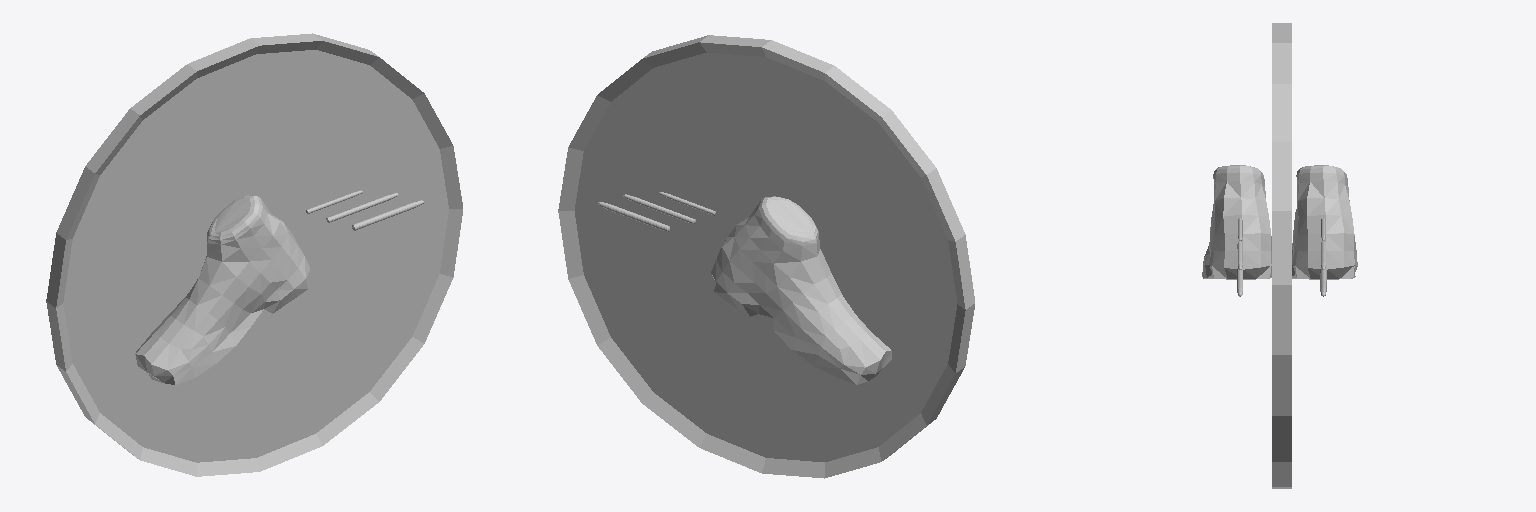
Rendered from Perk_Movement.obj.
3 views of the same model, side by side, from view 1: azimuth 30°, elevation 25°; view 2: azimuth 150°, elevation 25°; view 3: azimuth 270°, elevation 25° (orthographic).
Parts seen in each view (by area): view 1: MovementPerk; view 2: MovementPerk; view 3: MovementPerk.
Part boxes in pixels (bbox=[...]): MovementPerk: bbox=[46, 33, 462, 476]; MovementPerk: bbox=[558, 35, 974, 478]; MovementPerk: bbox=[1202, 23, 1357, 488].
Size of the model in its own units: 2.92 by 2.92 by 0.965.